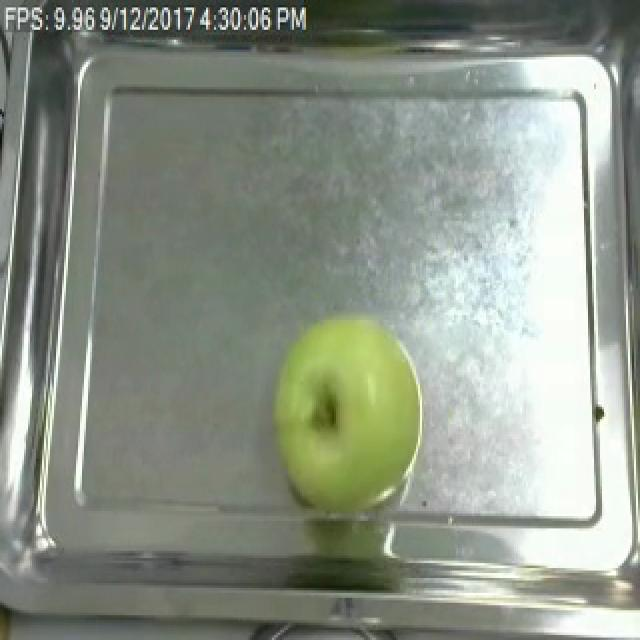50-_ripeness: (260, 301, 447, 509)
